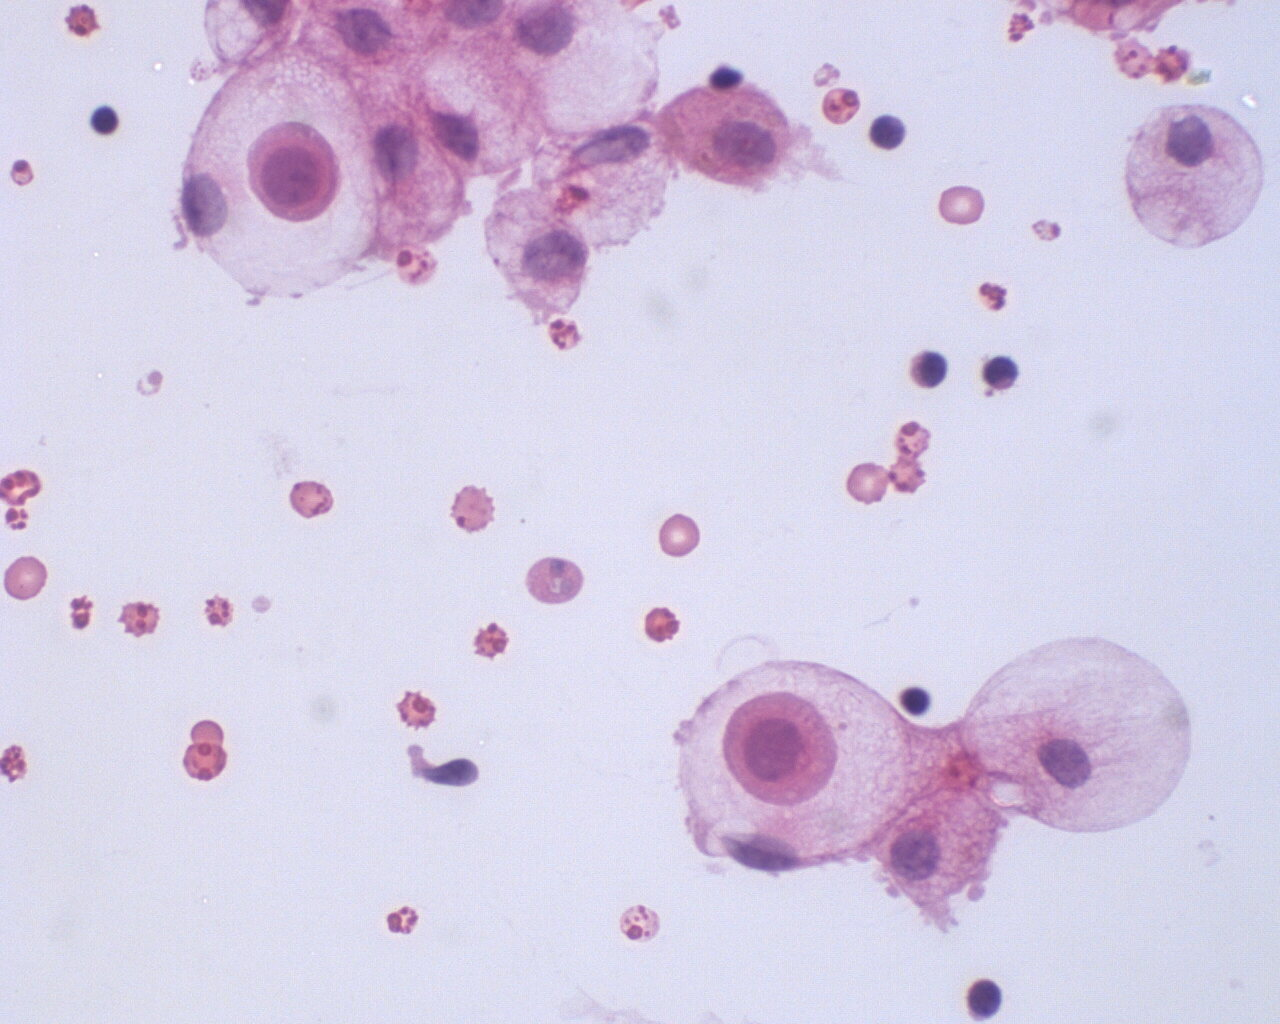histo: (160, 51, 378, 307), (667, 650, 909, 879), (970, 633, 1197, 837), (1124, 100, 1269, 253)
lymph: (959, 971, 1013, 1023), (907, 345, 955, 391)
meso: (721, 690, 837, 809), (247, 118, 348, 229)
